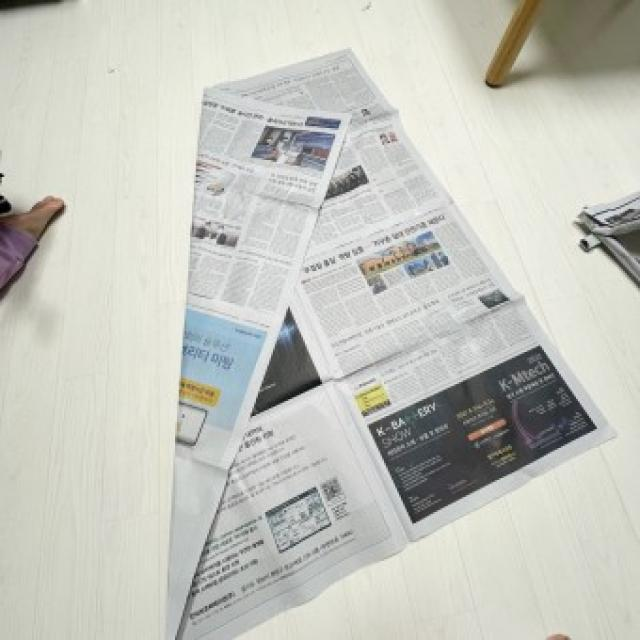reuseable_paper: (60, 39, 603, 640)
